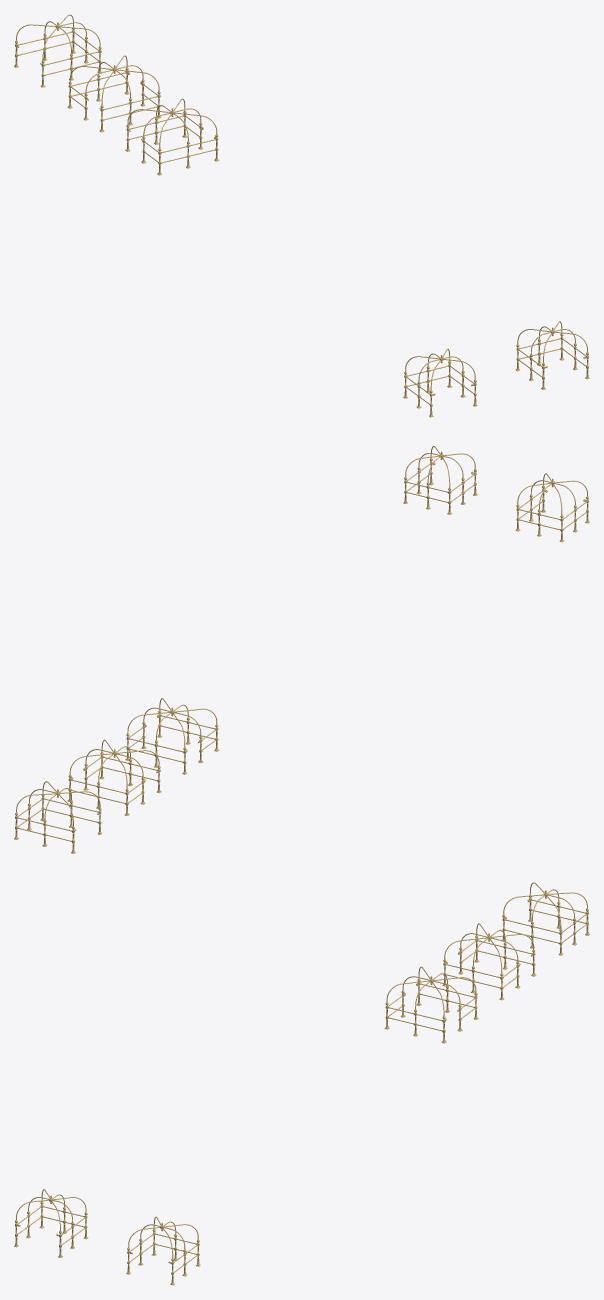
The model's file is HatchCovers_Mesh.fbx.
3 renders of one model, top to bottom at view 1: azimuth 30°, elevation 25°; view 2: azimuth 150°, elevation 25°; view 3: azimuth 330°, elevation 25°, orthographic.
Visible parts, largest first — view 1: HatchRails.003, HatchRails.001, HatchRails.002, HatchRails.005, HatchRails.004; view 2: HatchRails.003, HatchRails.001, HatchRails.002, HatchRails.004, HatchRails.005; view 3: HatchRails.003, HatchRails.001, HatchRails.002, HatchRails.004, HatchRails.005.
Boxes of the visible parts, x1,y1,x2,y2 form: HatchRails.003: (125, 98, 219, 175); HatchRails.001: (67, 55, 161, 132); HatchRails.002: (14, 14, 101, 87); HatchRails.005: (515, 321, 589, 389); HatchRails.004: (403, 348, 477, 417); HatchRails.003: (125, 698, 219, 774); HatchRails.001: (67, 739, 161, 815); HatchRails.002: (14, 781, 102, 853); HatchRails.004: (515, 473, 589, 542); HatchRails.005: (403, 446, 477, 514); HatchRails.003: (384, 966, 478, 1043); HatchRails.001: (442, 923, 536, 1000); HatchRails.002: (502, 882, 589, 955); HatchRails.004: (14, 1189, 88, 1257); HatchRails.005: (126, 1216, 200, 1285).
Bounding box in the file's own units: 490 × 155 × 2481.
